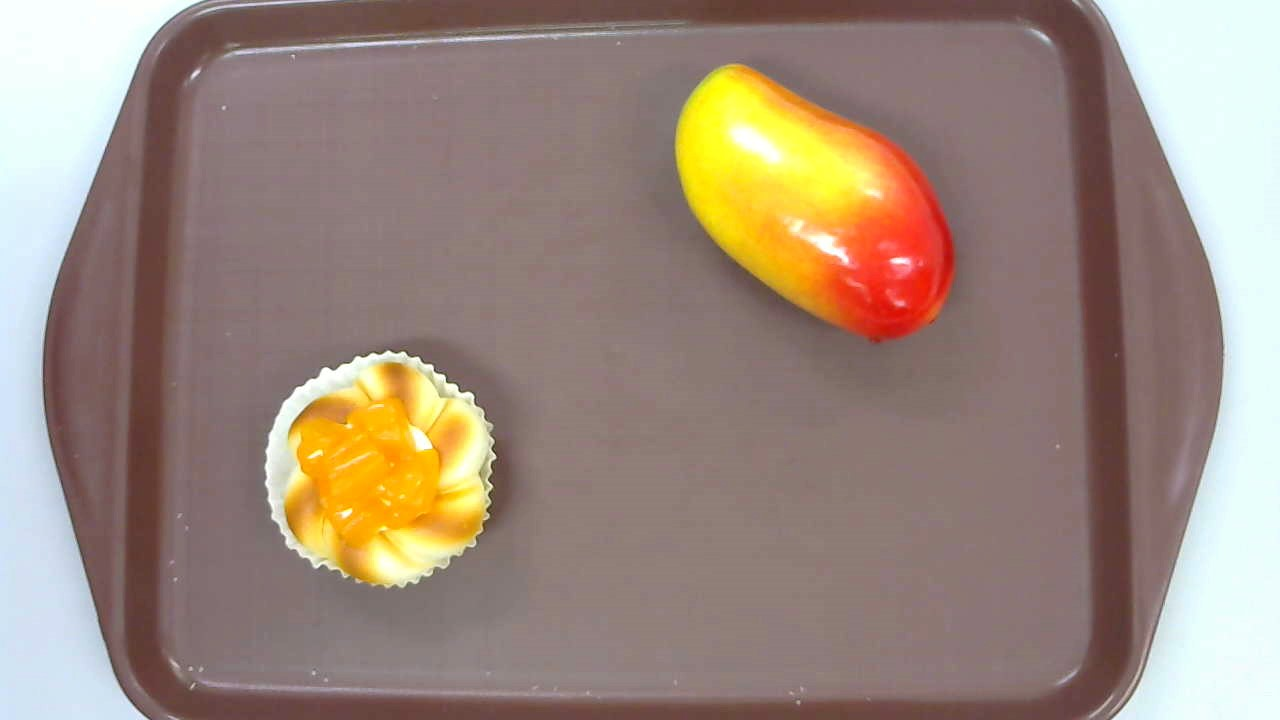mango tart: (264, 349, 496, 587)
red mango: (673, 63, 957, 344)
